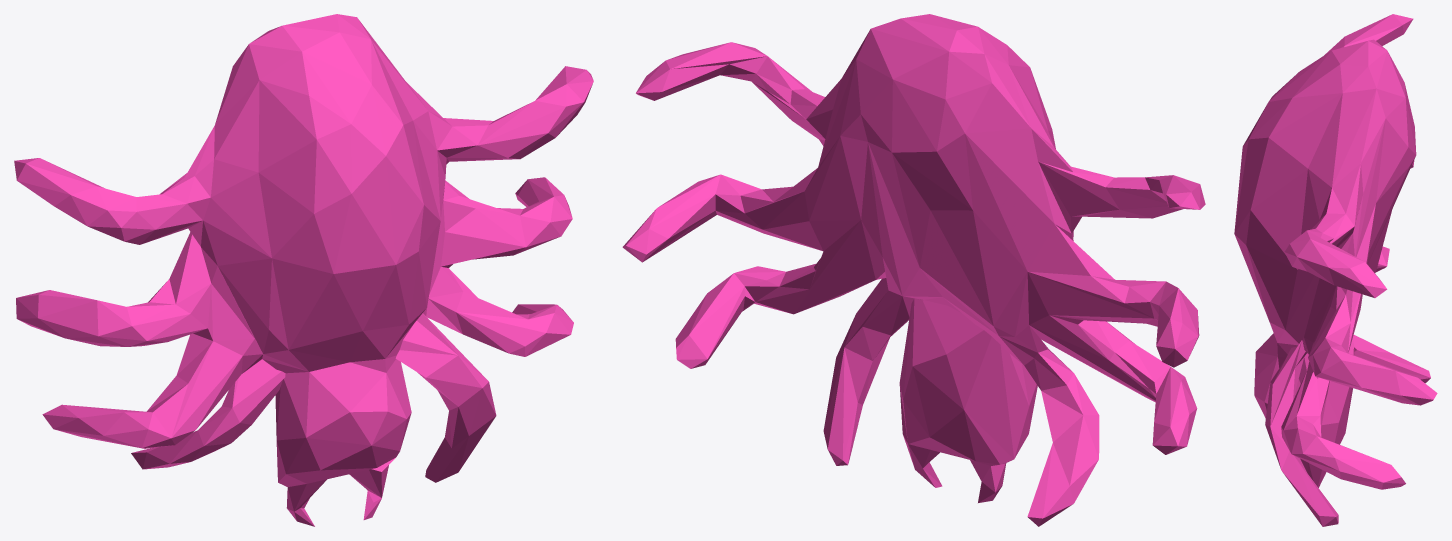
Rendered from aranya2_000019.obj.
3 renders of one model, left to right at view 1: azimuth 30°, elevation 25°; view 2: azimuth 150°, elevation 25°; view 3: azimuth 270°, elevation 25°, orthographic. The views are drawn at different scales.
Visible parts, largest first — view 1: Cube; view 2: Cube; view 3: Cube.
Part boxes in pixels (x1,y1,x2,y2): Cube: (14,14,593,526); Cube: (622,14,1205,526); Cube: (1234,14,1437,526).
Size of the model in its own units: 20.5 by 16.9 by 7.16.
1 material, 1 textured.
